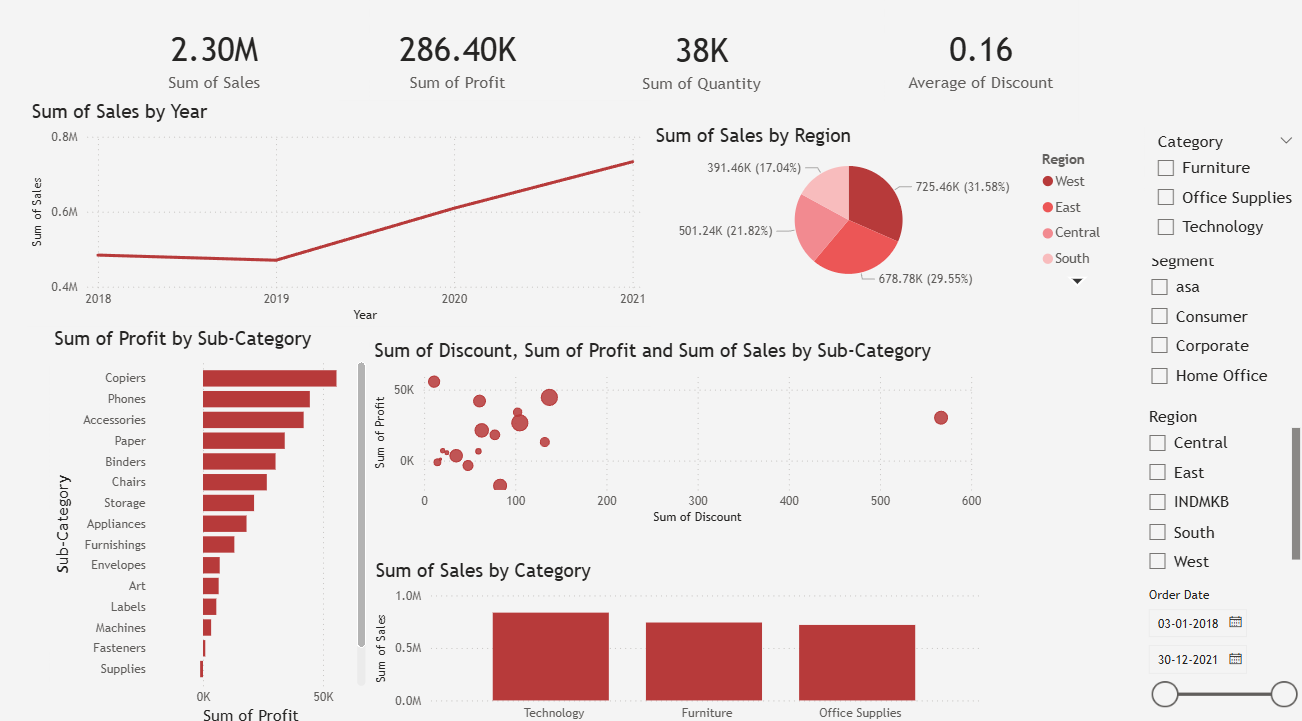

This screenshot's page, from the dashboard's own definition file:
{"tool":"powerbi","page":{"name":"Page 1","canvas":[1280,720],"ordinal":0},"visuals":[{"type":"card","fields":{"Values":["Sum(Orders.Sales)"]},"box":[129,0,168.8,127.6],"z":0},{"type":"card","fields":{"Values":["Sum(Orders.Profit)"]},"box":[365,0,172.9,127.6],"z":1000},{"type":"card","fields":{"Values":["Sum(Orders.Quantity)"]},"box":[606.5,1.4,166,127.6],"z":2000},{"type":"card","fields":{"Values":["Avg(Orders.Discount)"]},"box":[868.6,0,189.4,127.6],"z":3000},{"type":"lineChart","fields":{"Category":["Orders.Order Date.Variation.Date Hierarchy.Year","Orders.Order Date.Variation.Date Hierarchy.Quarter","Orders.Order Date.Variation.Date Hierarchy.Month","Orders.Order Date.Variation.Date Hierarchy.Day"],"Y":["Sum(Orders.Sales)"]},"box":[28.8,105.7,610.6,220.9],"z":4000},{"type":"clusteredColumnChart","fields":{"Category":["Orders.Category"],"Y":["Sum(Orders.Sales)"]},"box":[365.6,553.9,604.1,166.3],"z":5000},{"type":"barChart","fields":{"Category":["Orders.Sub-Category"],"Y":["Sum(Orders.Profit)"]},"box":[50.8,326.6,314.2,393.8],"z":6000},{"type":"pieChart","fields":{"Category":["Orders.Region"],"Y":["Sum(Orders.Sales)"]},"box":[639.5,129,455.6,166],"z":7000},{"type":"scatterChart","fields":{"X":["Sum(Orders.Discount)"],"Y":["Sum(Orders.Profit)"],"Size":["Sum(Orders.Sales)"],"Category":["Orders.Sub-Category"]},"box":[365,338.9,603.8,185.2],"z":8000},{"type":"slicer","fields":{"Values":["Orders.Region"]},"box":[1114.2,399.3,166,171.5],"z":9000},{"type":"slicer","fields":{"Values":["Orders.Segment"]},"box":[1117,247,163.3,152.3],"z":10000},{"type":"slicer","fields":{"Values":["Orders.Category"]},"box":[1122.5,130.4,157.8,129],"z":11000},{"type":"slicer","fields":{"Values":["Orders.Order Date"]},"box":[1114.2,577.7,166,142.7],"z":12000}]}

Visuals, with their boxes in screenshot pixels (x1, y1, x2, y2), scaled from the page's 1280x720 canvas onto the 1302x721 screenshot:
card - Sum(Orders.Sales): 131:0:303:128
card - Sum(Orders.Profit): 371:0:547:128
card - Sum(Orders.Quantity): 617:1:786:129
card - Avg(Orders.Discount): 884:0:1076:128
lineChart - Orders.Order Date.Variation.Date Hierarchy.Year x Orders.Order Date.Variation.Date Hierarchy.Quarter: 29:106:650:327
clusteredColumnChart - Orders.Category x Sum(Orders.Sales): 372:555:986:720
barChart - Orders.Sub-Category x Sum(Orders.Profit): 52:327:371:720
pieChart - Orders.Region x Sum(Orders.Sales): 650:129:1114:295
scatterChart - Sum(Orders.Discount) x Sum(Orders.Profit): 371:339:985:525
slicer - Orders.Region: 1133:400:1301:572
slicer - Orders.Segment: 1136:247:1301:400
slicer - Orders.Category: 1142:131:1301:260
slicer - Orders.Order Date: 1133:579:1301:720
